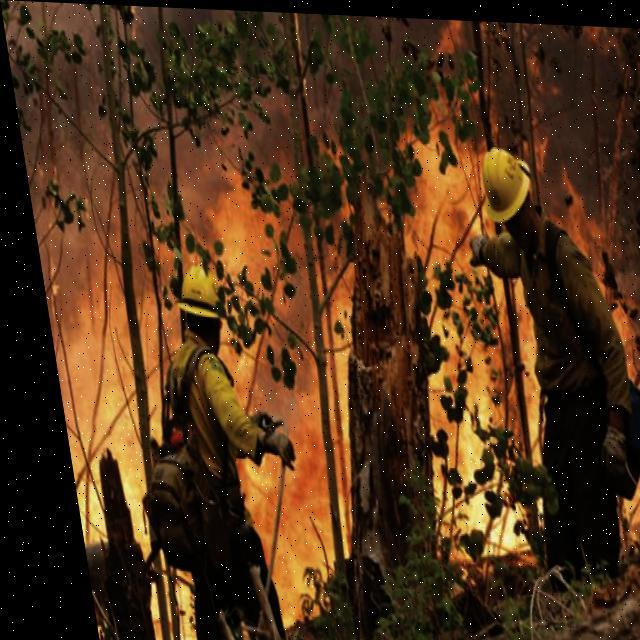Fire: (12, 25, 639, 616)
